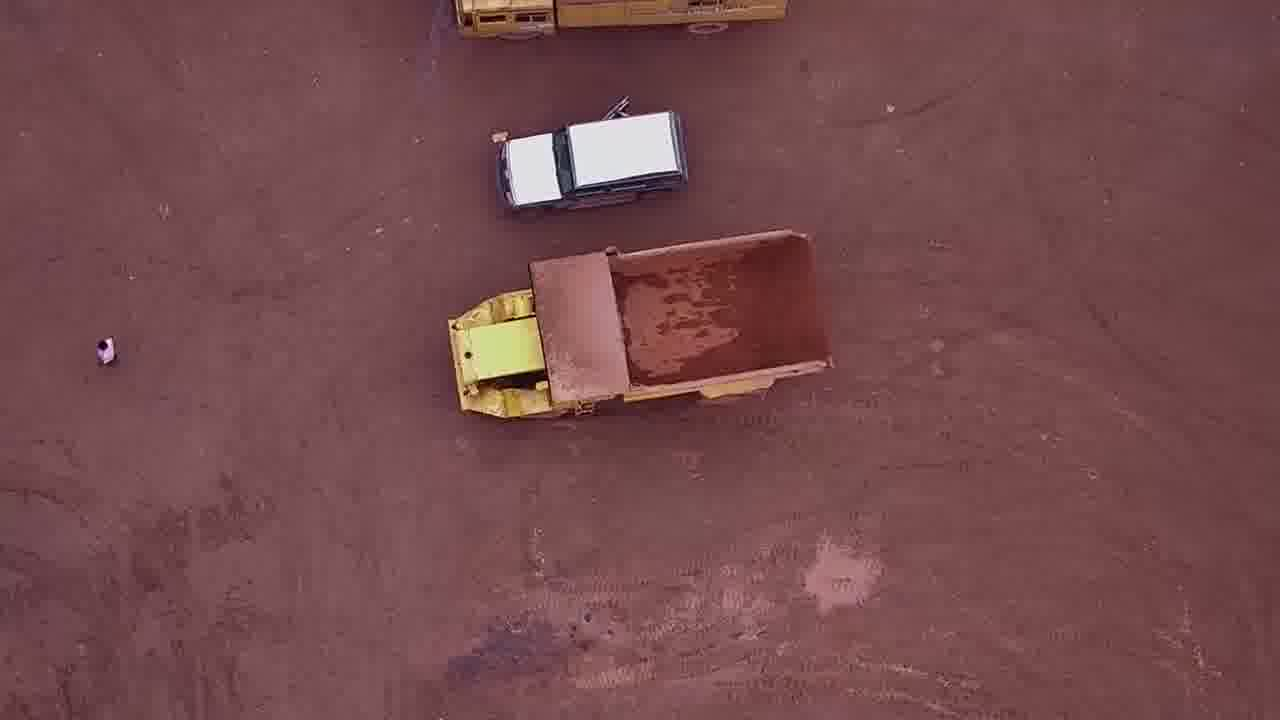HMV: (443, 228, 836, 415)
LMV: (499, 87, 691, 220)
Person: (89, 328, 124, 376)
